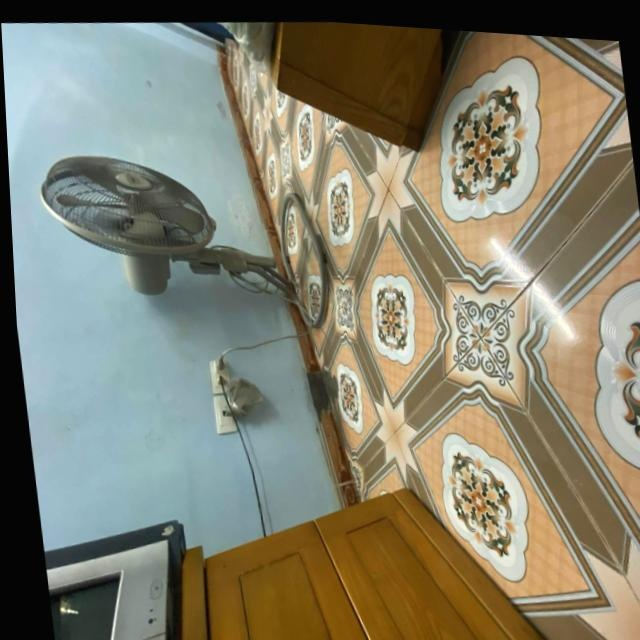outlet: (212, 392, 239, 435), (208, 356, 232, 395)
